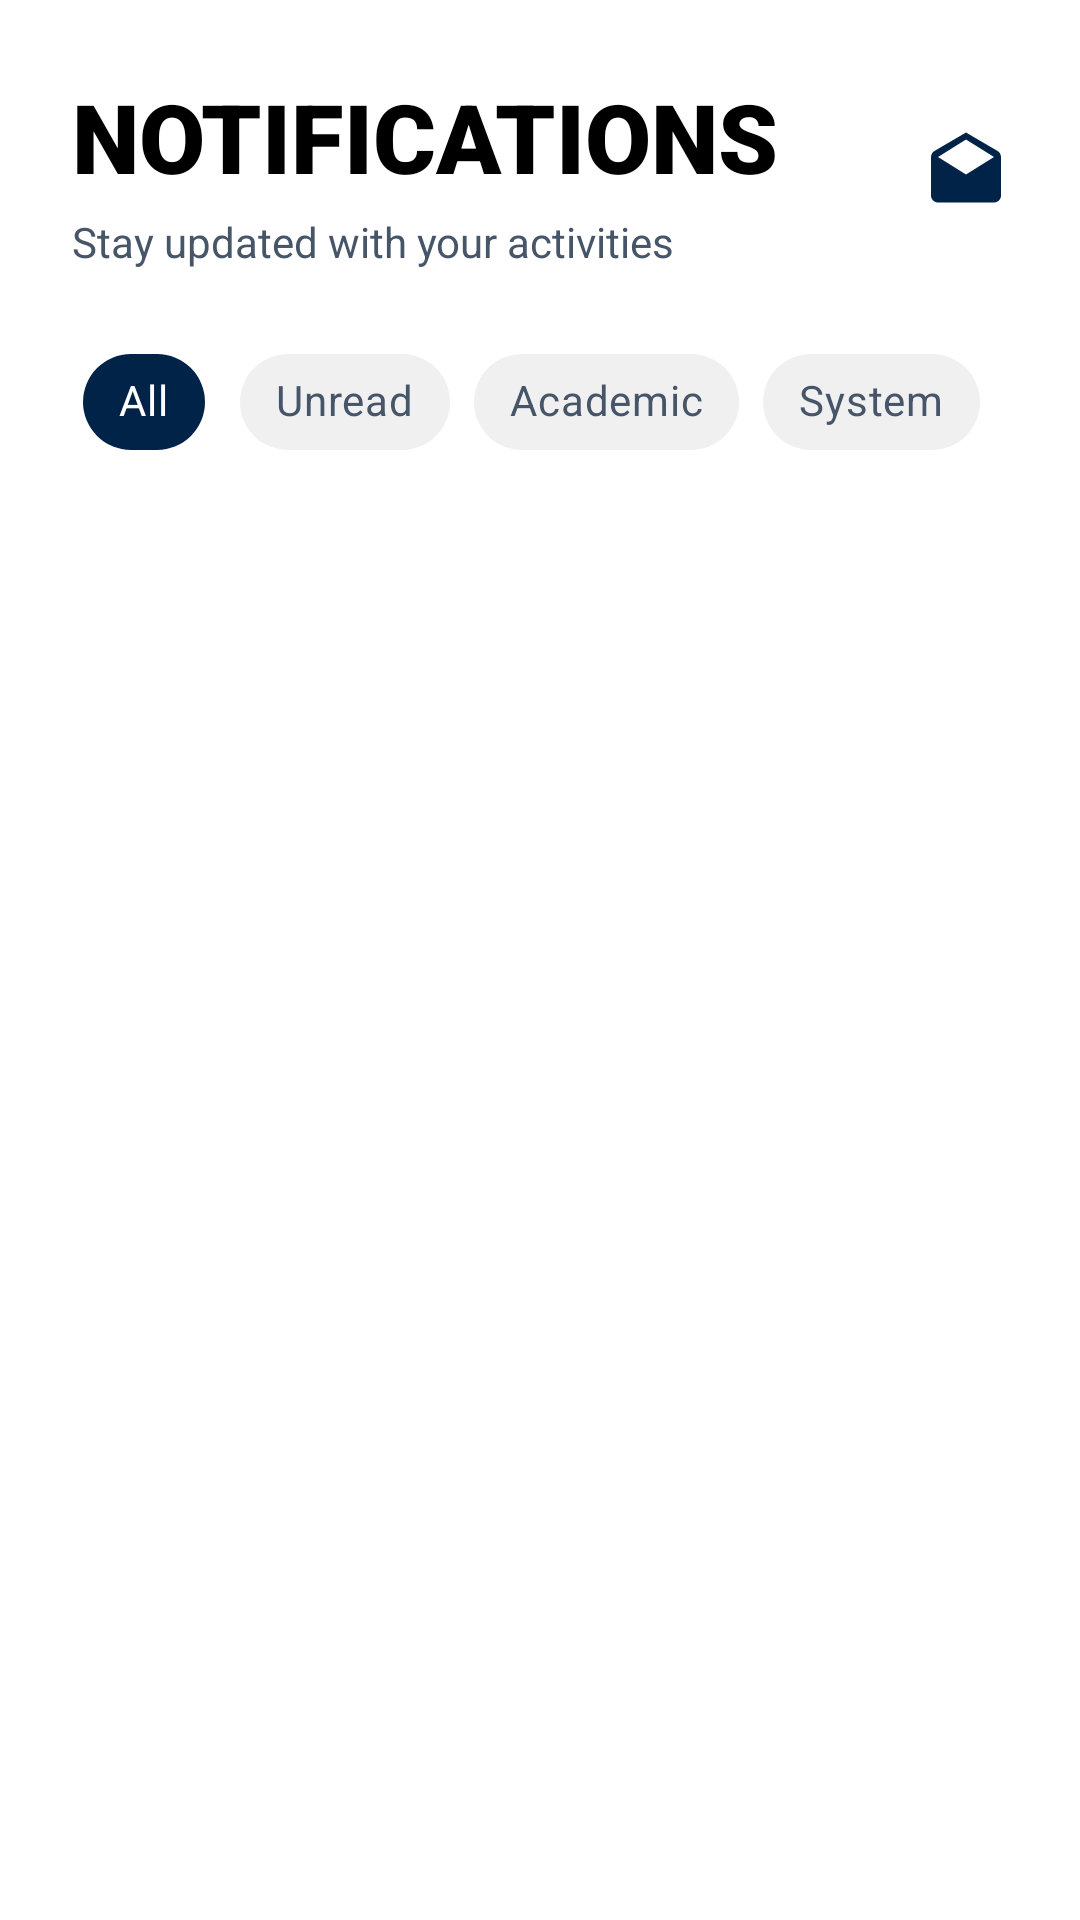

Screen size 1080 × 1920. Icon name, then its center in pixels as [x,y]:
open envelope: [966,167]
